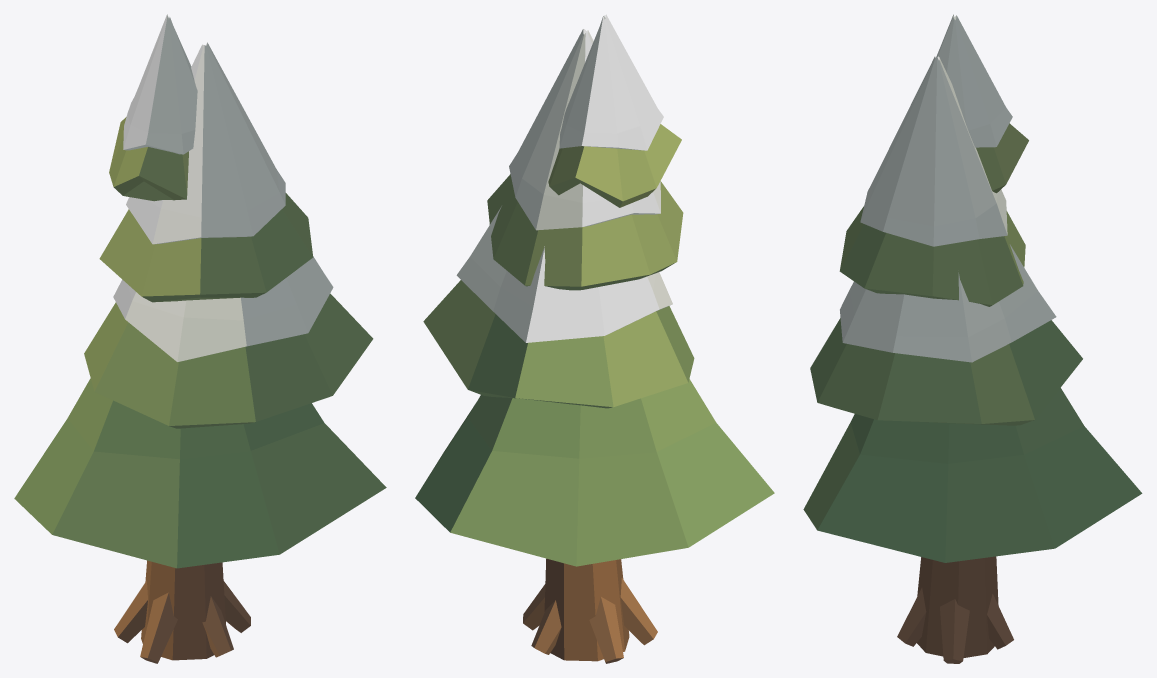
Rendered from forage_3_winter.glb.
3 views of the same model, side by side, from view 1: azimuth 30°, elevation 25°; view 2: azimuth 150°, elevation 25°; view 3: azimuth 270°, elevation 25° (orthographic). The views are drawn at different scales.
Visible parts, largest first — view 1: Rohstoff 3 · winter; view 2: Rohstoff 3 · winter; view 3: Rohstoff 3 · winter.
Boxes of the visible parts, x1,y1,x2,y2 form: Rohstoff 3 · winter: (14,14,386,663); Rohstoff 3 · winter: (415,14,774,663); Rohstoff 3 · winter: (803,14,1142,663).
Bounding box in the file's own units: 2.57 × 5.02 × 2.49.
